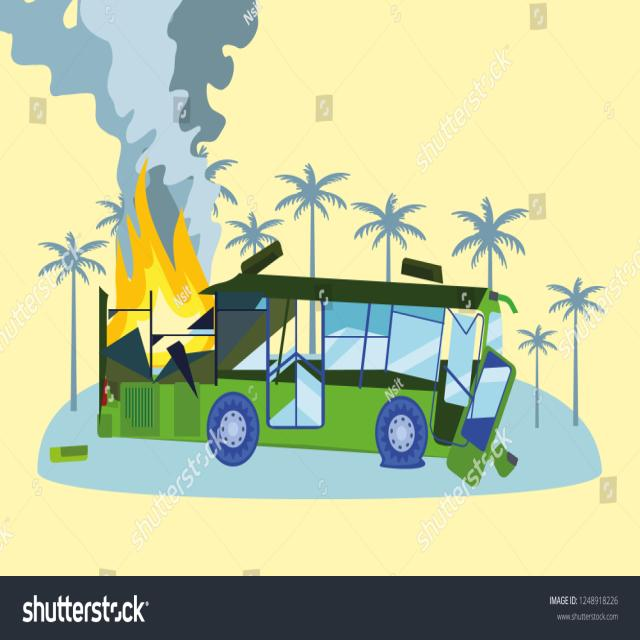Accident: (71, 186, 531, 497)
